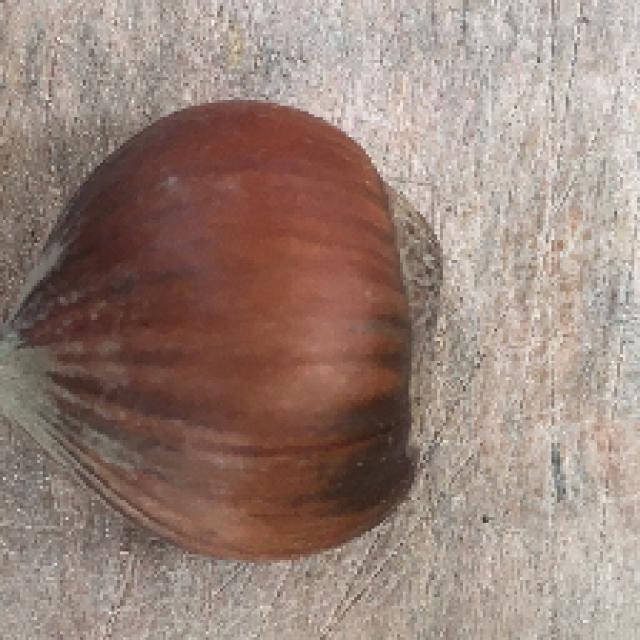qualityHazelnut: (5, 93, 448, 562)
